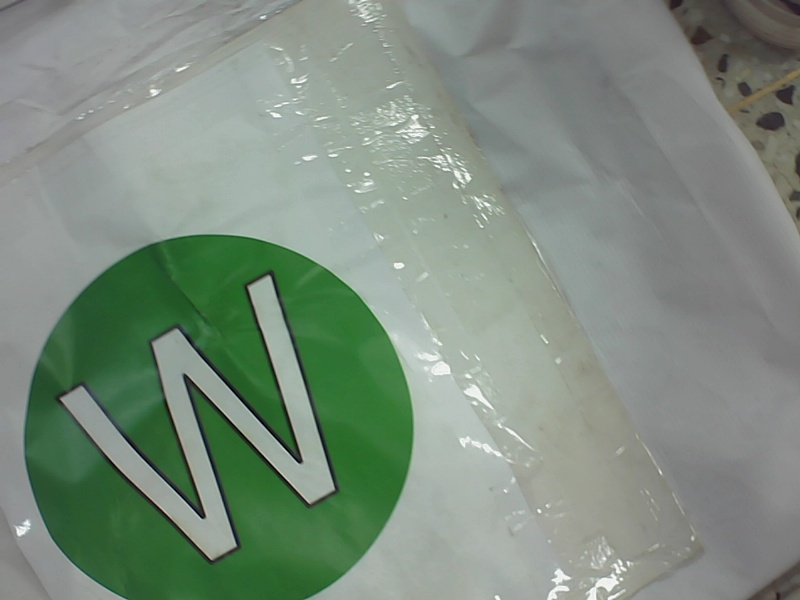areaB: (10, 234, 420, 599)
